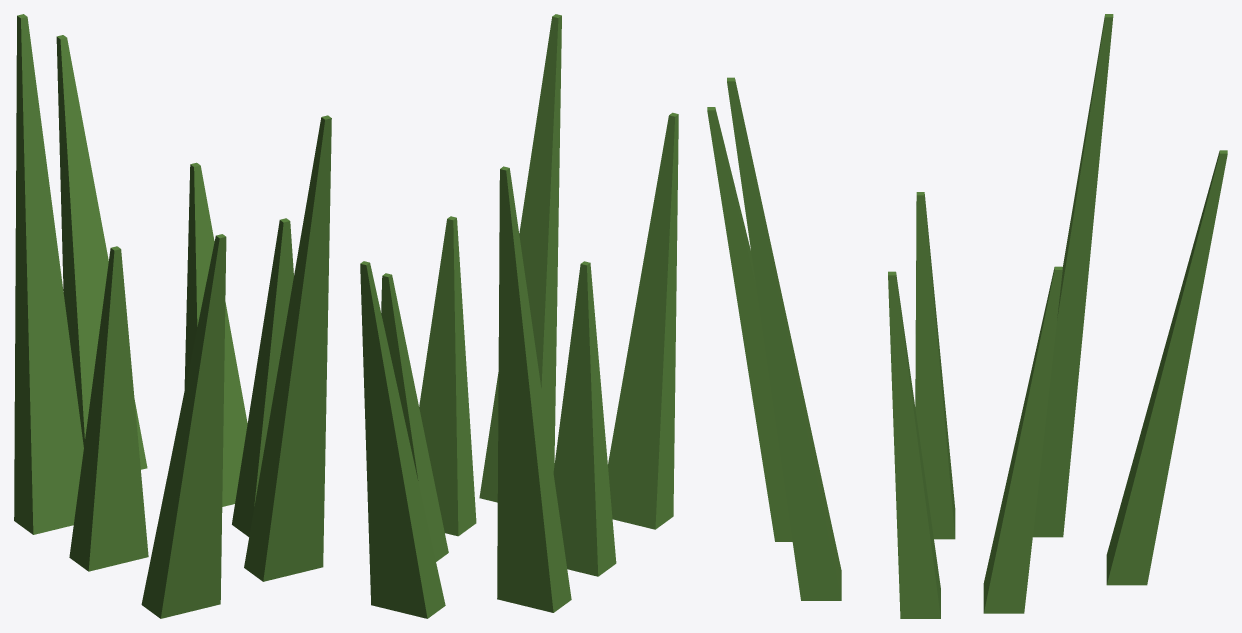
Rendered from tuft.obj.
3 views of the same model, side by side, from view 1: azimuth 30°, elevation 25°; view 2: azimuth 150°, elevation 25°; view 3: azimuth 270°, elevation 25° (orthographic). The views are drawn at different scales.
Parts seen in each view (by area): view 1: tuft; view 2: tuft; view 3: tuft.
Boxes of the visible parts, x1,y1,x2,y2 form: tuft: [14, 14, 331, 618]; tuft: [360, 14, 678, 618]; tuft: [707, 14, 1227, 618].
Bounding box in the file's own units: 0.3291 × 0.69 × 0.6433.
